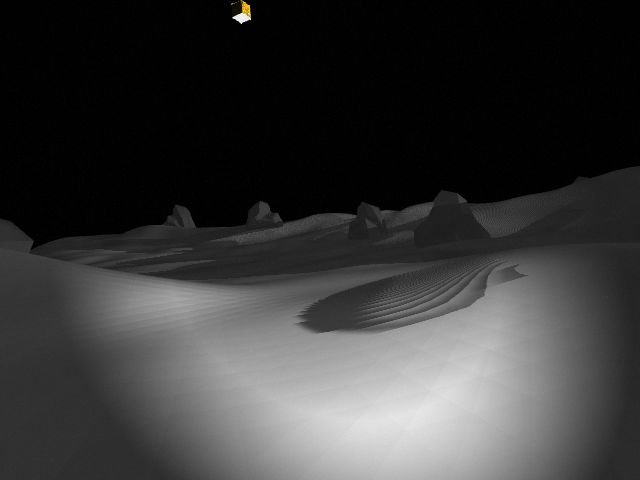cubesat: (225, 1, 258, 30)
